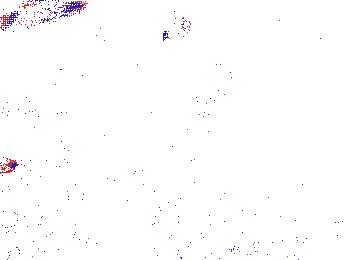X-ray fish: (230, 226, 291, 259), (124, 162, 176, 188)
redtail glassfish: (1, 1, 89, 31), (158, 6, 191, 50)
